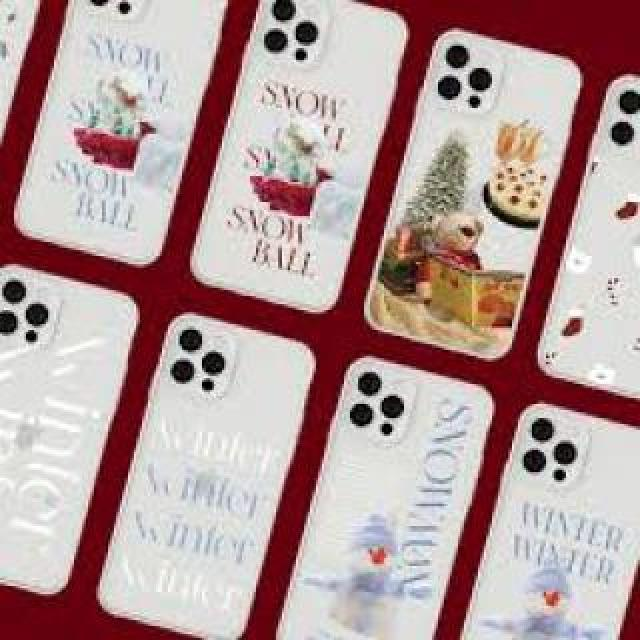smart phone: (116, 288, 306, 632), (232, 0, 388, 318), (395, 22, 533, 368), (330, 345, 467, 640), (48, 0, 185, 290), (0, 252, 97, 615), (548, 55, 640, 398), (510, 395, 623, 640)
